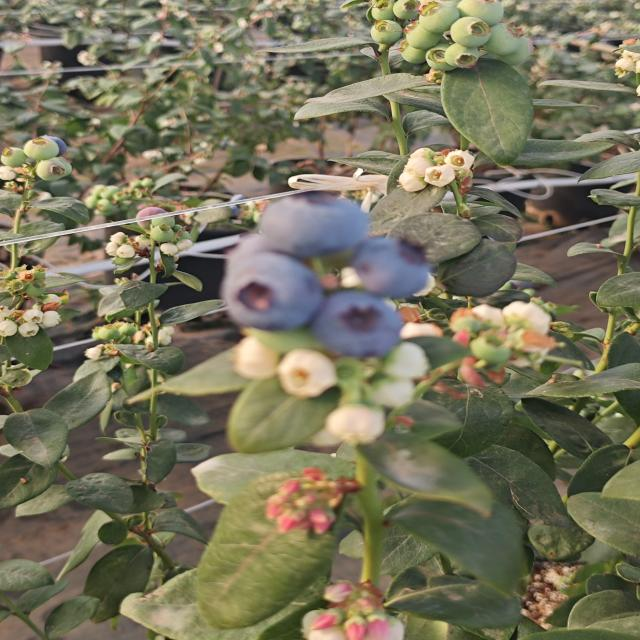ripe: (219, 242, 325, 334), (232, 185, 372, 254), (307, 291, 411, 360), (351, 234, 437, 298), (31, 127, 72, 160)
